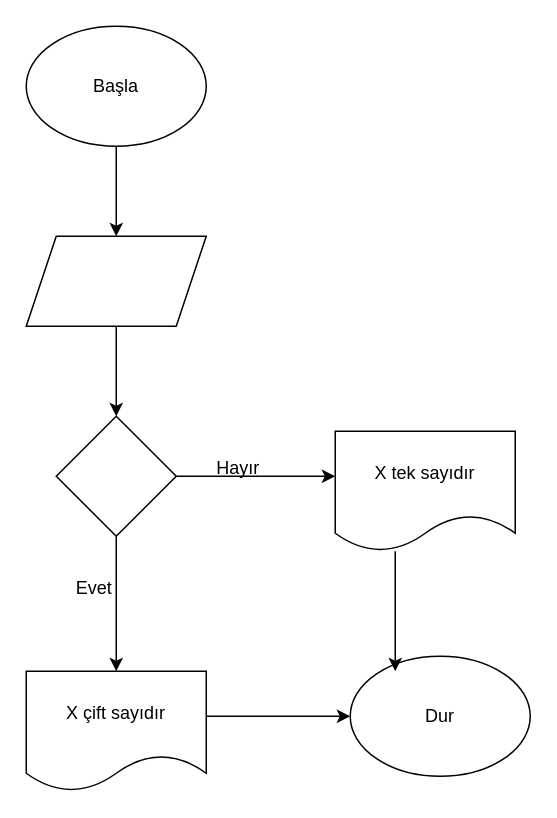
This 557x818 diagram has some shape labels left out. The centre of each missing label's shape, as x and y in pixels:
"Bir x sayısı giriniz." belongs at (x=115, y=280).
"x%2 = 0" belongs at (x=115, y=475).
